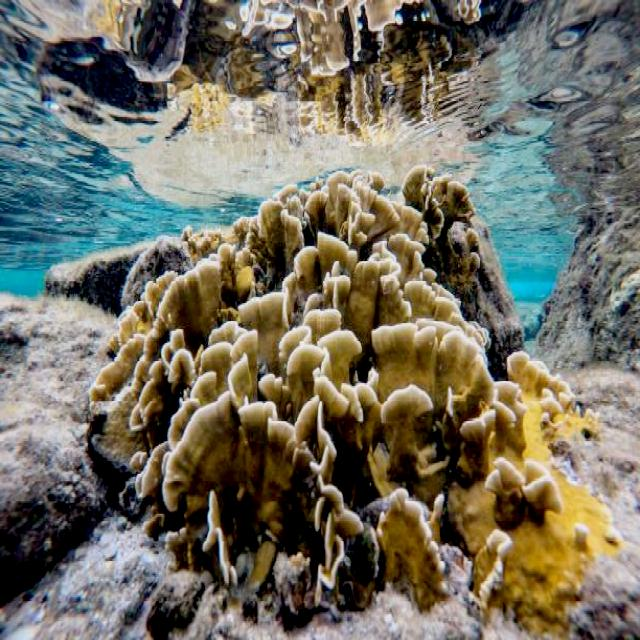Coral: (87, 161, 628, 640)
